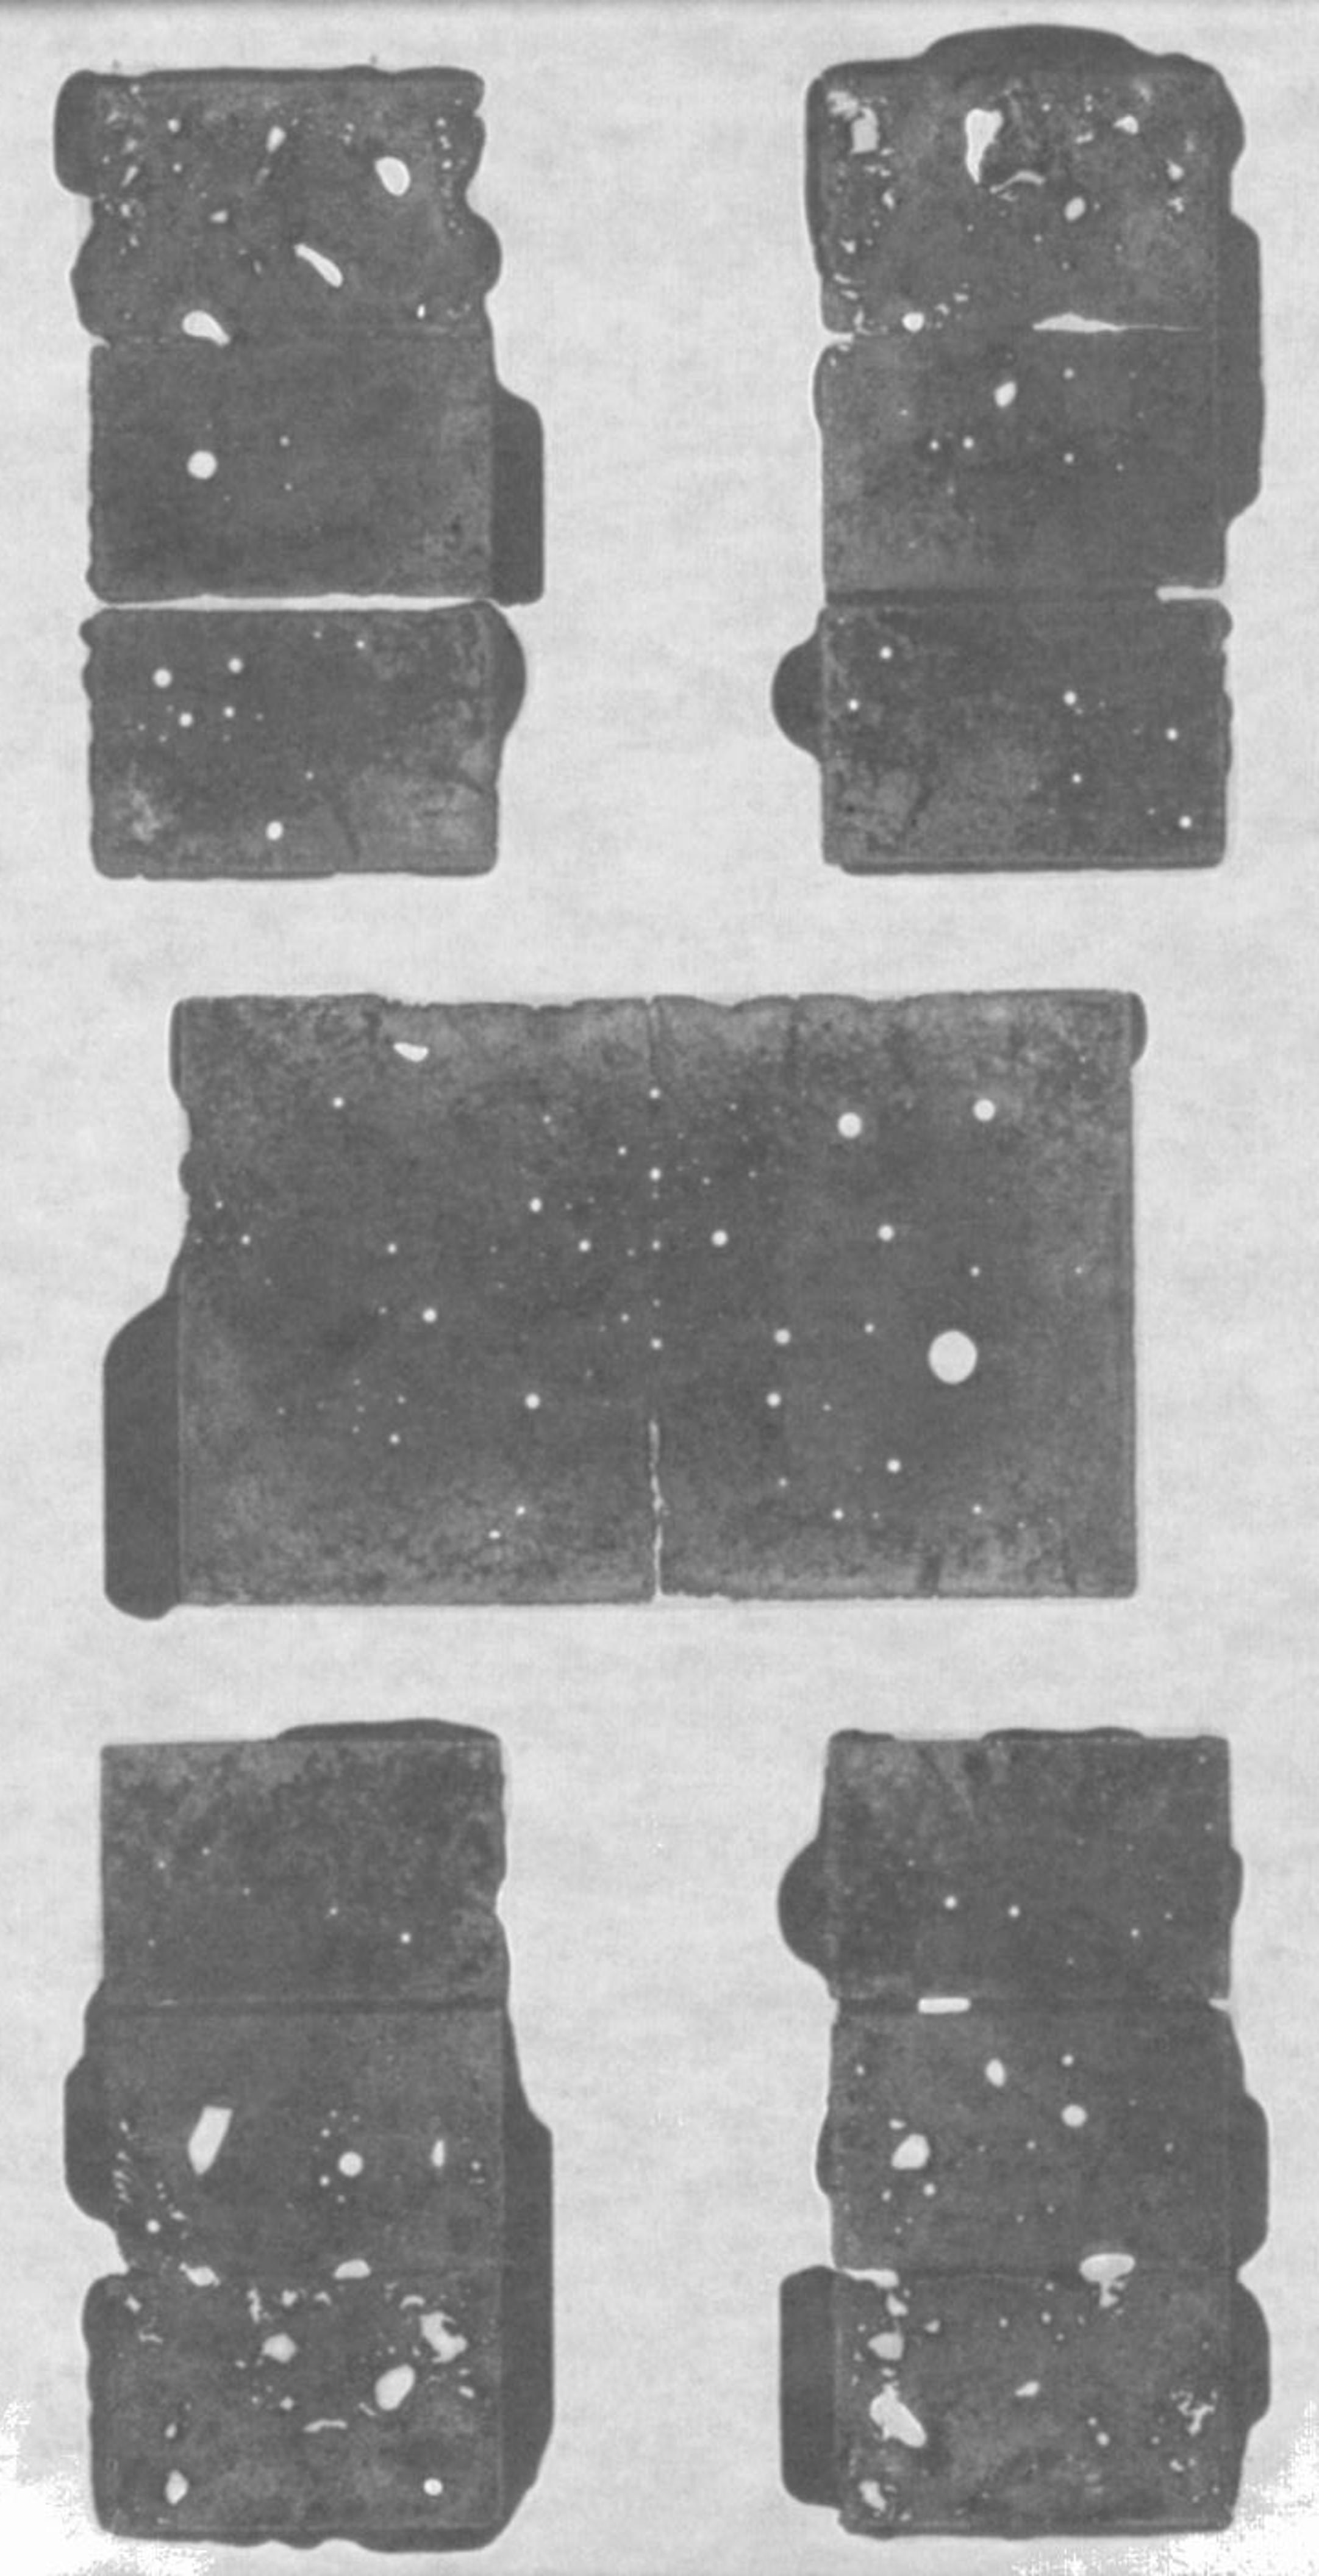CCD: (10, 79, 273, 335), (885, 79, 1147, 335), (10, 87, 273, 343), (885, 87, 1147, 343), (10, 350, 273, 605), (885, 350, 1147, 605), (10, 1713, 273, 1969), (885, 1713, 1147, 1969), (10, 1976, 273, 2231), (885, 1976, 1147, 2231), (10, 2240, 273, 2495), (885, 2240, 1147, 2495)
IOD: (185, 1130, 1119, 1473)
